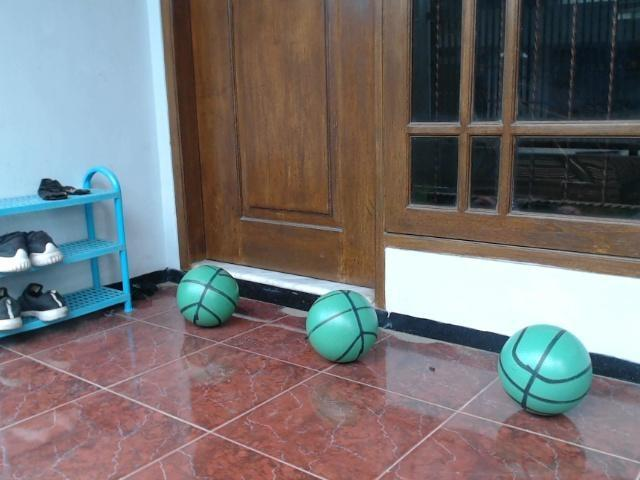Sports-Ball: (508, 324, 593, 413), (305, 290, 376, 364), (177, 266, 241, 331)
